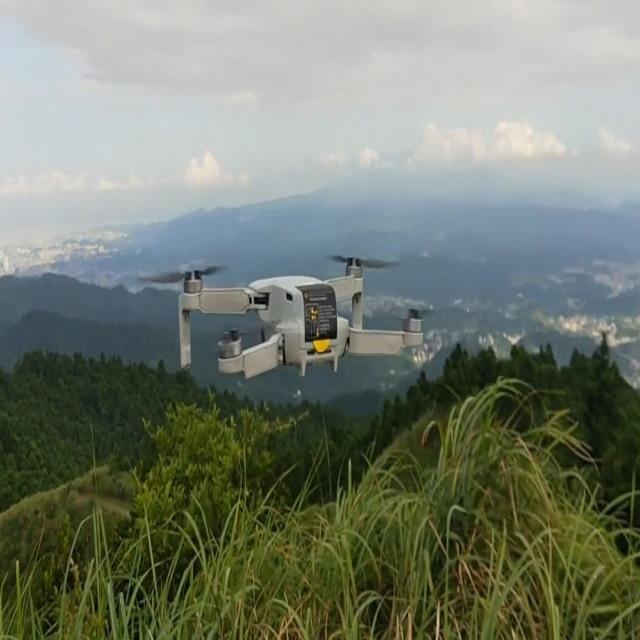Drone: (144, 220, 487, 410)
